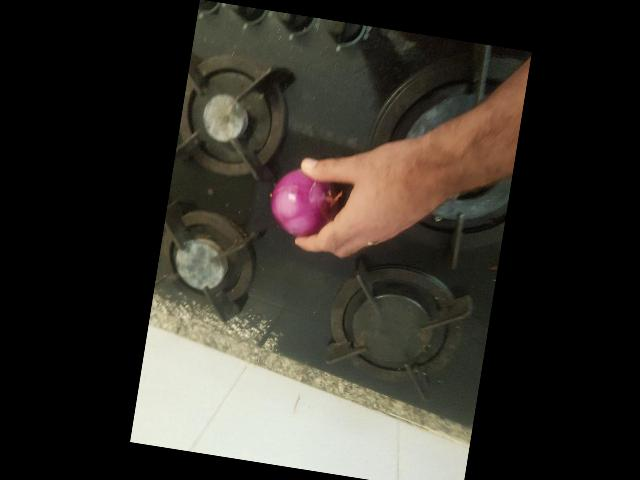onion: (185, 284, 257, 356)
